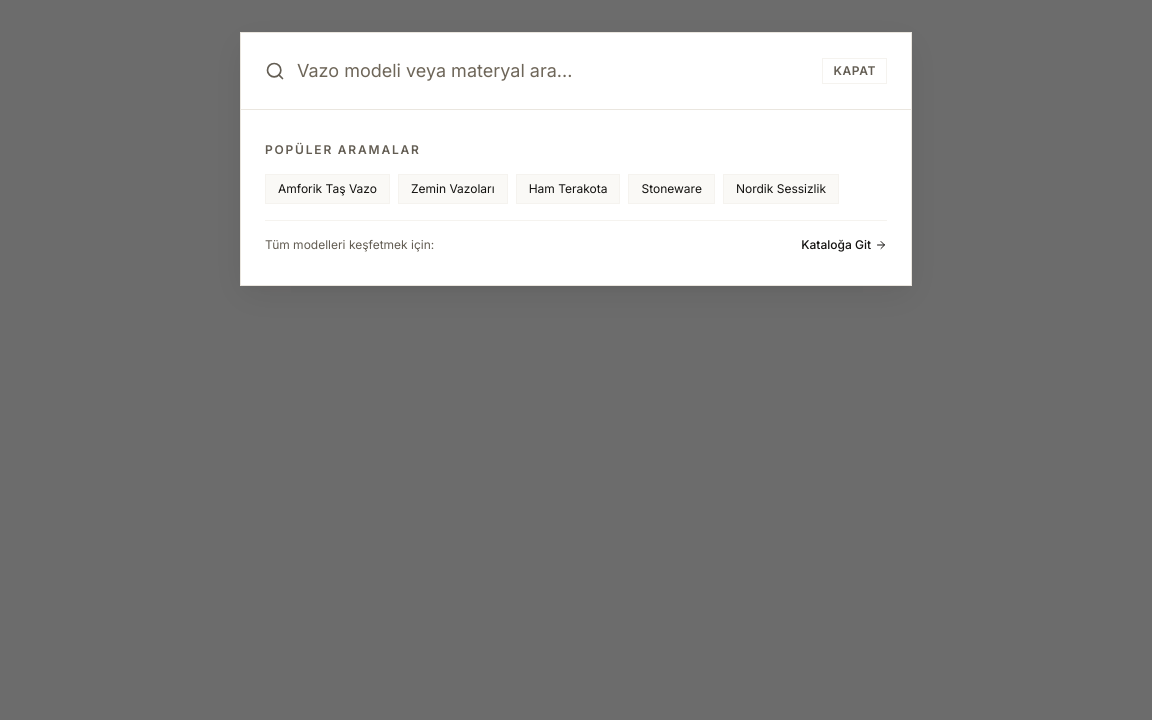
Test: SearchModal Component › sets query when a popular search term tag is clicked
The width and height of the screenshot is (1152, 720).
Step 1. Click the button "Amforik Taş Vazo" → (328, 189), box [265,174,390,204]
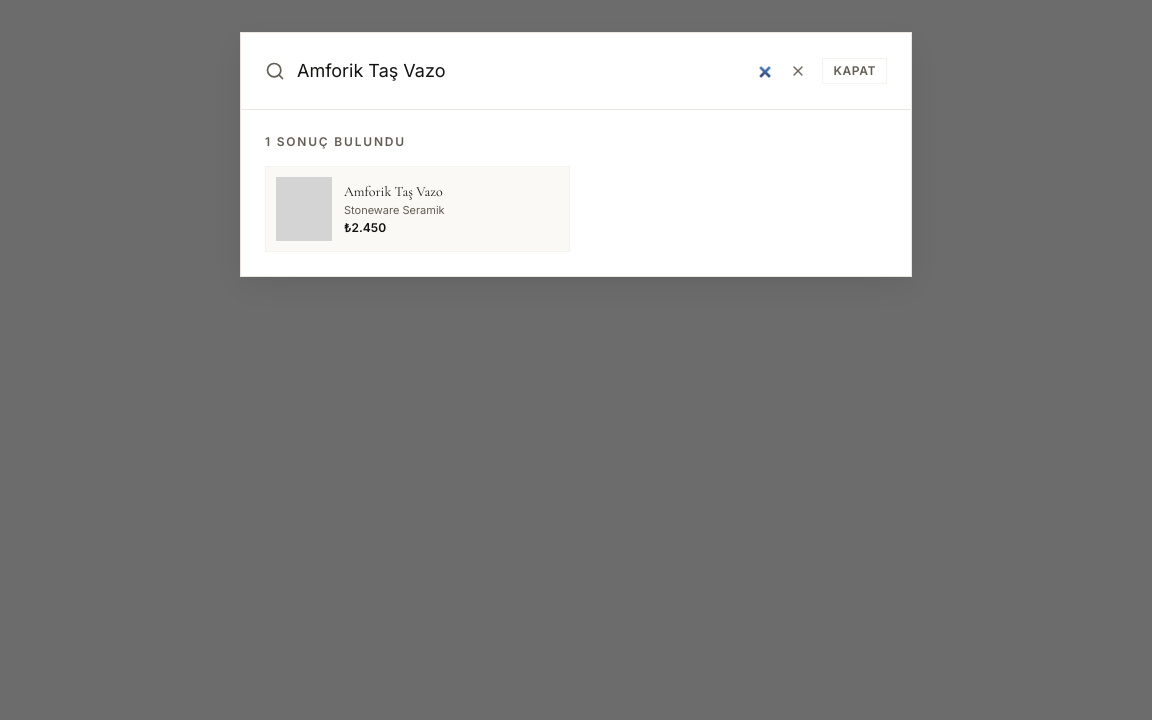
Result: the search field with placeholder "Vazo modeli veya materyal ara..." holds "Amforik Taş Vazo" at [297,57,774,85]
